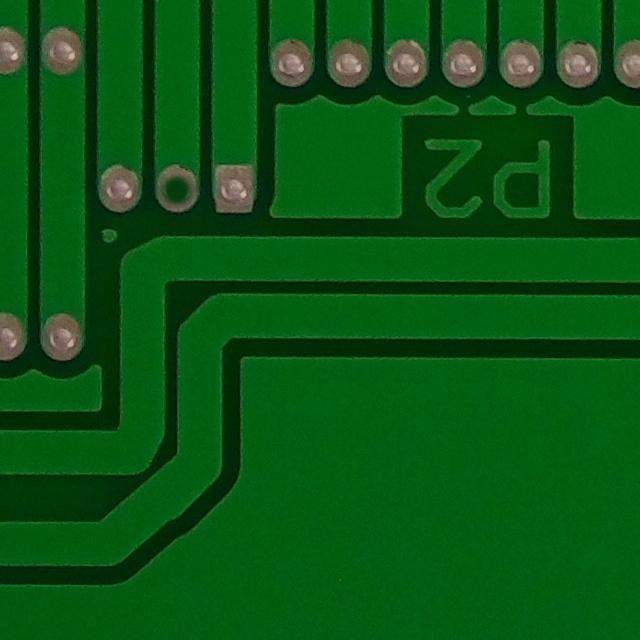missing_hole: (148, 151, 204, 221)
